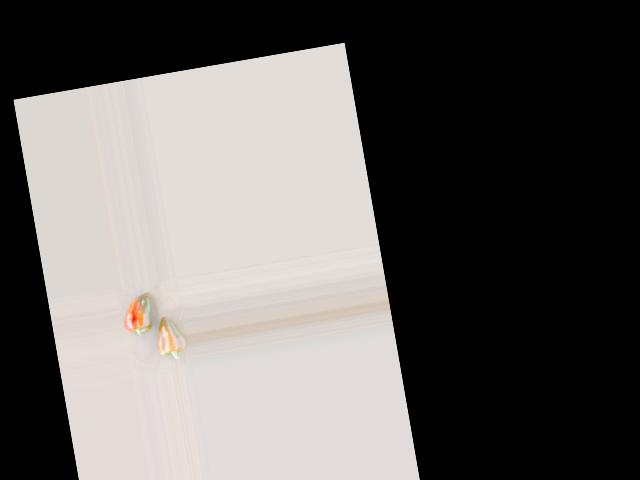bell_pepper: (117, 289, 160, 351)
